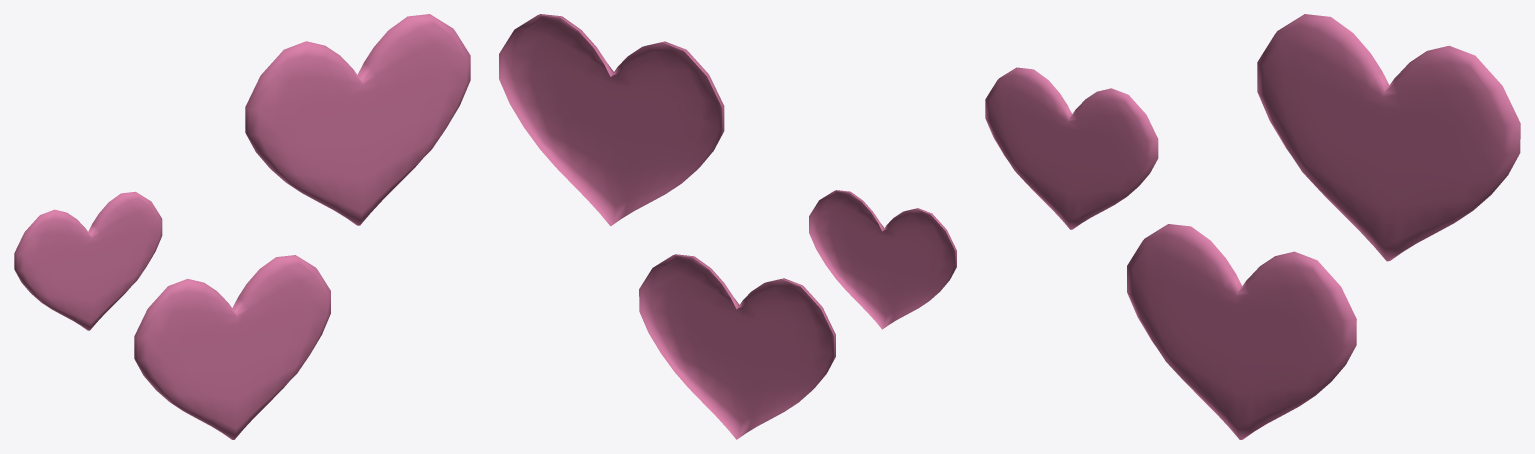
Rendered from Wallslot_02_PastelPop.glb.
3 renders of one model, left to right at view 1: azimuth 30°, elevation 25°; view 2: azimuth 150°, elevation 25°; view 3: azimuth 330°, elevation 25°, orthographic. The views are drawn at different scales.
Parts seen in each view (by area): view 1: Wallslot_02_PastelPop; view 2: Wallslot_02_PastelPop; view 3: Wallslot_02_PastelPop.
Part boxes in pixels (x1=…): Wallslot_02_PastelPop: x1=14, y1=14, x2=470, y2=439; Wallslot_02_PastelPop: x1=499, y1=14, x2=956, y2=439; Wallslot_02_PastelPop: x1=985, y1=14, x2=1520, y2=439.
Bounding box in the file's own units: 0.4938 × 0.3937 × 0.0118.
Materials: 1 (1 with a texture image).
